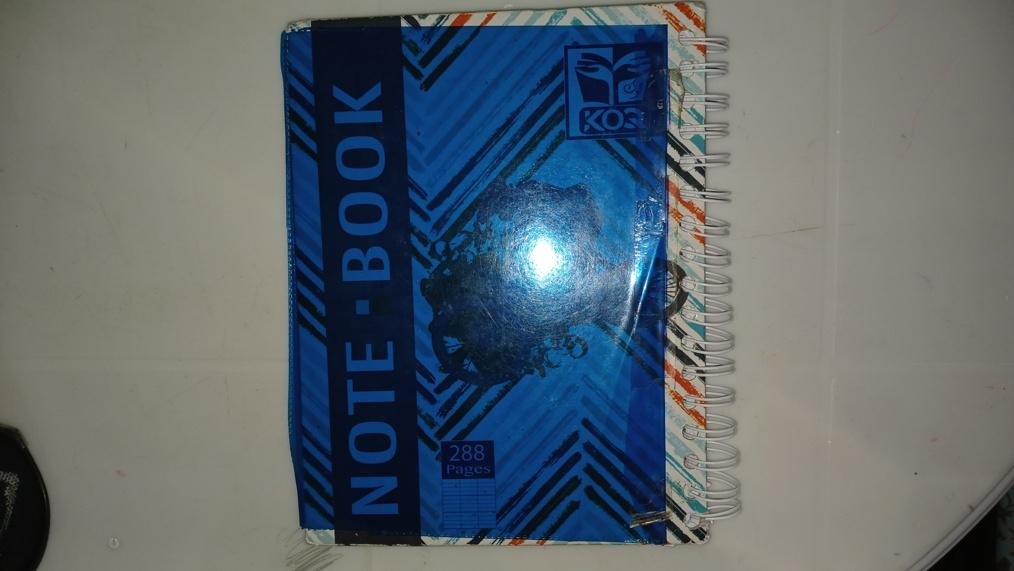notebook: (292, 0, 735, 548)
